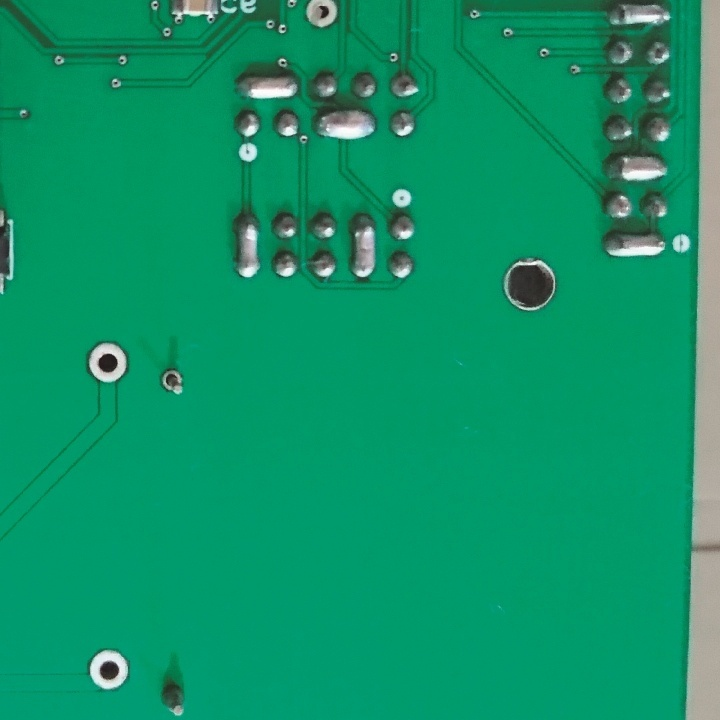F: (85, 338, 130, 385), (87, 645, 132, 692), (304, 1, 341, 36), (157, 365, 187, 398)
P: (601, 147, 670, 184), (313, 106, 379, 143), (347, 206, 378, 284), (598, 227, 668, 260), (230, 208, 262, 280), (234, 70, 303, 100), (604, 1, 676, 29)
